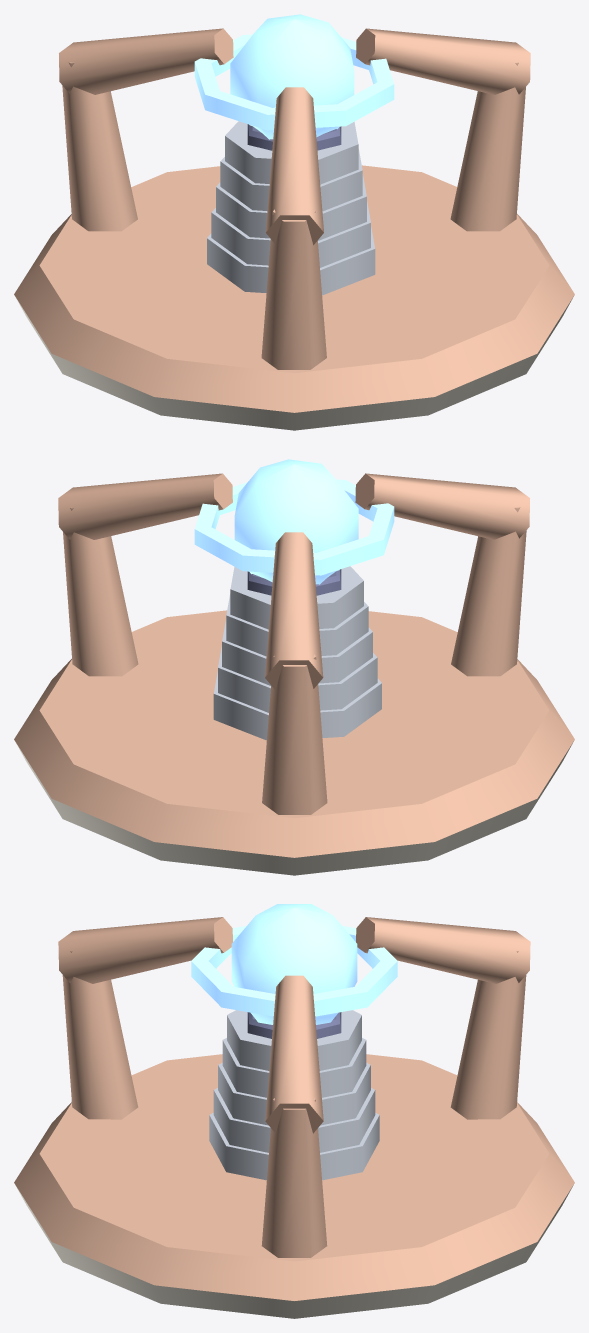
File: R4D_EMPTrap_LOD1.fbx
3 renders of one model, top to bottom at view 1: azimuth 30°, elevation 25°; view 2: azimuth 150°, elevation 25°; view 3: azimuth 270°, elevation 25°, orthographic.
Visible parts, largest first — view 1: R4D_EMPTrap_LOD1; view 2: R4D_EMPTrap_LOD1; view 3: R4D_EMPTrap_LOD1.
Part boxes in pixels (x1,y1,x2,y2): R4D_EMPTrap_LOD1: (14,14,574,430); R4D_EMPTrap_LOD1: (14,459,574,875); R4D_EMPTrap_LOD1: (14,904,574,1318).
Bounding box in the file's own units: 0.44 × 0.2581 × 0.44.
